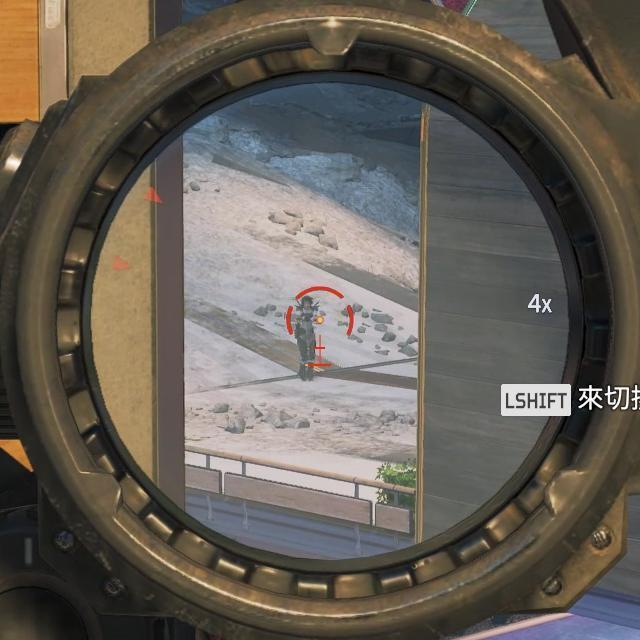avatar: (291, 293, 321, 382)
